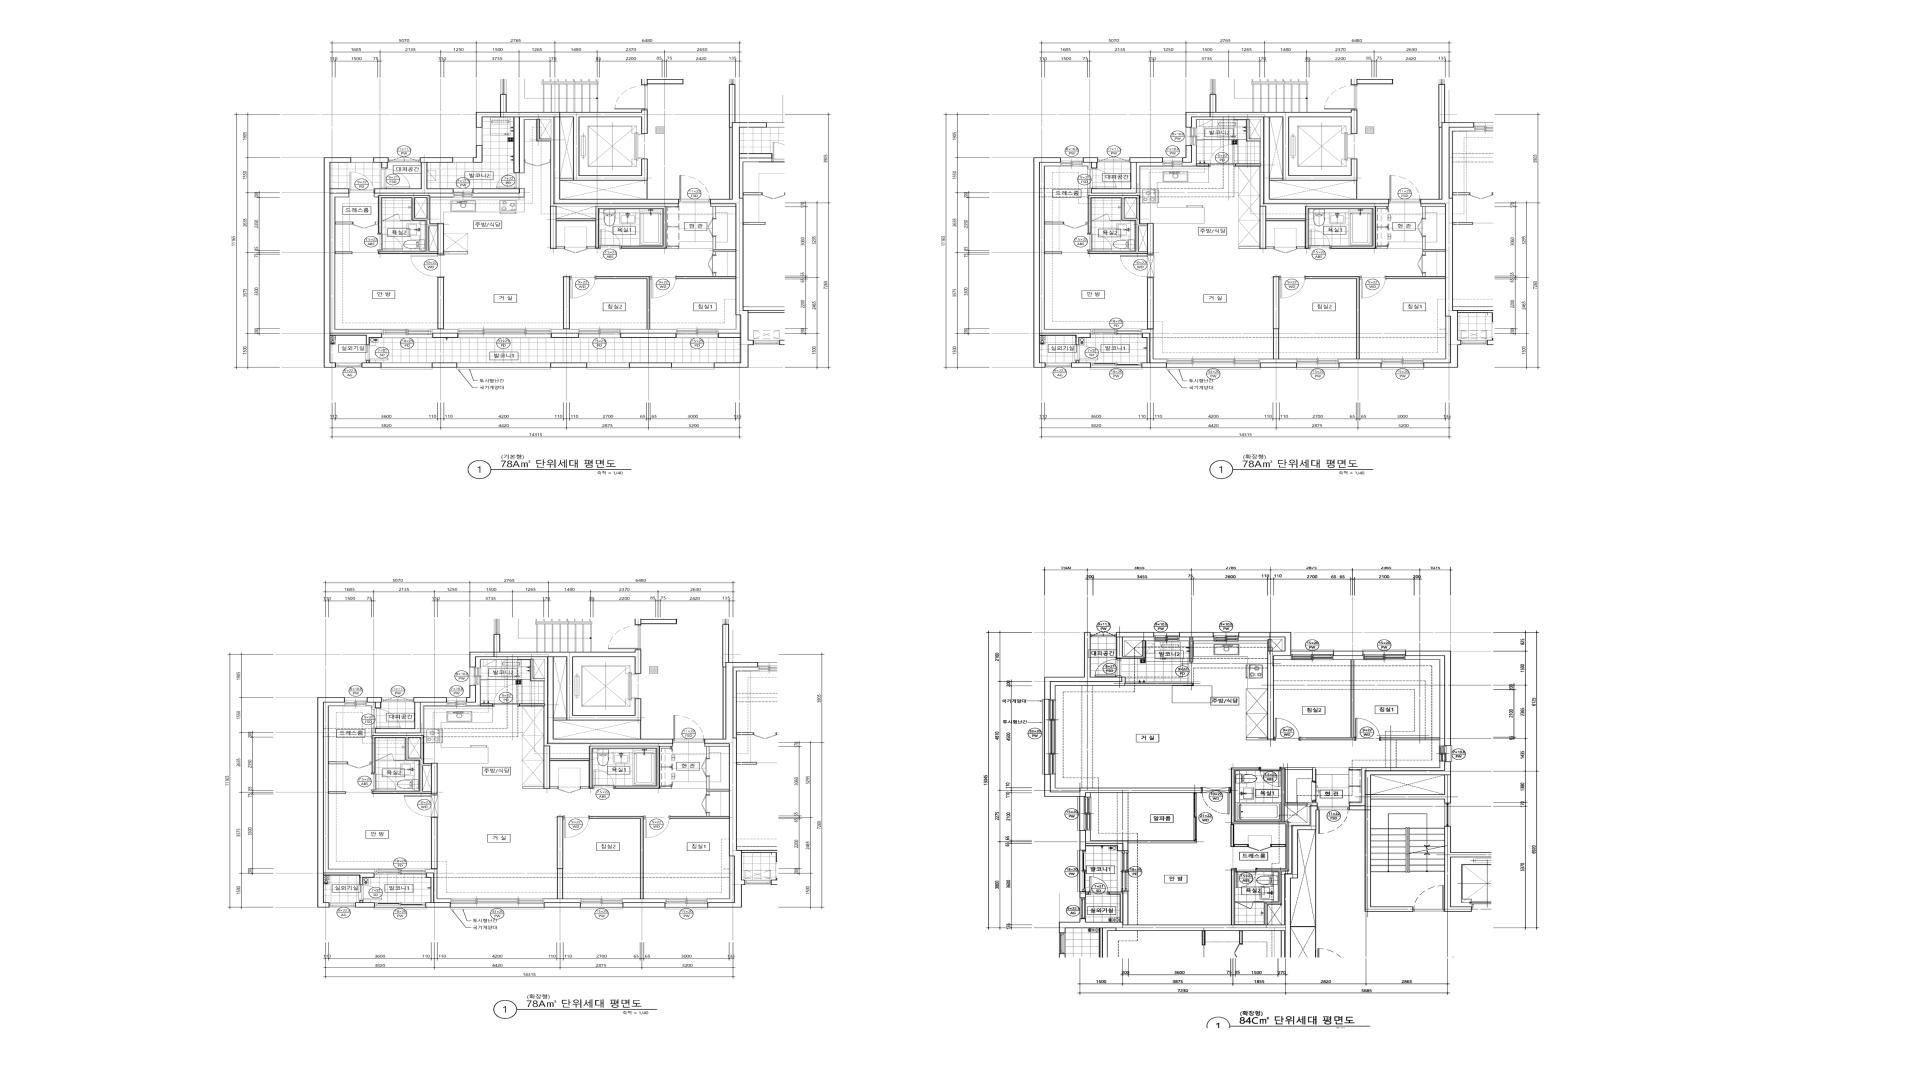door: (1317, 806, 1349, 834), (1389, 175, 1421, 201), (1324, 85, 1357, 110), (608, 625, 641, 650), (615, 85, 648, 110), (1120, 254, 1154, 278), (673, 715, 704, 741), (1413, 886, 1444, 912), (679, 176, 710, 202), (404, 794, 438, 817), (1201, 788, 1231, 814), (411, 254, 444, 277), (371, 708, 400, 729), (1279, 276, 1306, 298), (643, 816, 670, 838), (1088, 168, 1116, 189), (381, 168, 410, 188), (1360, 276, 1386, 298), (1209, 144, 1235, 166), (563, 816, 589, 838), (493, 684, 519, 706), (1355, 718, 1381, 740), (1274, 718, 1300, 740), (650, 276, 676, 298), (570, 276, 596, 298), (349, 172, 375, 193), (1095, 659, 1121, 677), (1308, 230, 1331, 249), (592, 770, 615, 789), (372, 773, 396, 791), (1235, 869, 1257, 888), (1260, 768, 1282, 787), (599, 230, 621, 249), (1088, 234, 1112, 251), (378, 234, 402, 251), (496, 173, 520, 189), (1088, 877, 1109, 895), (1076, 345, 1098, 361), (366, 345, 388, 361), (359, 885, 382, 900), (1193, 793, 1197, 841), (524, 159, 550, 166), (1312, 781, 1320, 803), (1063, 222, 1087, 229), (1274, 246, 1297, 253), (1248, 844, 1271, 851), (564, 246, 587, 253), (353, 222, 376, 229), (1090, 631, 1116, 637), (558, 786, 580, 793), (708, 218, 716, 237), (1418, 219, 1426, 237), (1418, 255, 1426, 273), (701, 758, 709, 776), (701, 795, 709, 813), (708, 255, 716, 273), (347, 762, 370, 768), (1092, 214, 1110, 221), (376, 754, 394, 761), (1235, 902, 1253, 909), (382, 214, 400, 221)
wall: (1059, 805, 1317, 958), (1186, 94, 1389, 204), (470, 634, 673, 744), (1386, 84, 1458, 368), (670, 624, 742, 908), (676, 84, 748, 368), (1192, 117, 1389, 219), (476, 657, 673, 758), (476, 110, 679, 204), (1349, 762, 1451, 912), (520, 117, 679, 206), (1231, 767, 1317, 925), (1033, 157, 1091, 368), (317, 697, 375, 908), (324, 157, 382, 368), (1040, 163, 1091, 333), (324, 702, 374, 873), (330, 193, 382, 333), (1239, 632, 1291, 740), (1044, 632, 1125, 699), (543, 746, 660, 789), (1260, 206, 1376, 249), (550, 206, 666, 249), (589, 816, 643, 899), (1306, 276, 1360, 359), (1300, 660, 1355, 740), (1406, 651, 1451, 746), (1444, 826, 1492, 912), (1088, 195, 1154, 254), (378, 195, 444, 254), (372, 735, 437, 794), (1044, 775, 1201, 797), (596, 276, 650, 329), (374, 157, 453, 193), (1091, 157, 1163, 193), (375, 697, 447, 733), (371, 702, 447, 735), (1088, 163, 1163, 196), (1291, 830, 1316, 927), (1371, 775, 1444, 795), (1424, 316, 1450, 363), (708, 856, 734, 903), (1116, 632, 1154, 659), (1080, 831, 1128, 851), (1142, 333, 1167, 368), (426, 873, 451, 908), (1142, 329, 1167, 363), (426, 869, 451, 903), (1123, 637, 1154, 656), (557, 816, 563, 899), (1273, 276, 1279, 359), (706, 776, 729, 795), (1109, 892, 1123, 922), (1423, 236, 1445, 255), (713, 237, 736, 255), (473, 189, 524, 197), (718, 315, 740, 333), (374, 193, 453, 198), (1231, 824, 1248, 847), (563, 276, 570, 329), (431, 817, 438, 869), (710, 204, 736, 218), (437, 277, 444, 329), (1147, 277, 1154, 329), (1421, 204, 1445, 219), (704, 744, 729, 758), (530, 659, 545, 681), (1246, 119, 1261, 141), (466, 685, 481, 706), (1179, 632, 1214, 641), (537, 119, 551, 141), (1183, 145, 1197, 166), (620, 333, 676, 338), (1334, 651, 1363, 660), (1351, 79, 1393, 85), (635, 619, 677, 625), (641, 79, 683, 85), (408, 738, 420, 758), (1268, 637, 1285, 651), (473, 189, 520, 194), (1231, 869, 1235, 925), (620, 329, 676, 333), (1125, 198, 1136, 218), (1339, 363, 1381, 368), (623, 903, 665, 908), (629, 363, 671, 368), (1128, 840, 1197, 843), (1260, 363, 1296, 368), (544, 903, 580, 908), (466, 685, 476, 703), (551, 363, 587, 368), (1381, 737, 1440, 740), (1339, 359, 1381, 363), (623, 899, 665, 903), (1083, 157, 1098, 168), (367, 697, 382, 708), (373, 157, 388, 168), (1183, 145, 1192, 163), (473, 145, 482, 163), (355, 900, 374, 908), (1260, 359, 1296, 363), (544, 899, 580, 903), (730, 127, 732, 199), (551, 333, 579, 338), (361, 361, 381, 368), (1125, 683, 1193, 685), (1071, 361, 1090, 368), (432, 333, 458, 338), (432, 363, 457, 368), (551, 329, 579, 333), (432, 329, 458, 333), (1235, 164, 1261, 167), (1190, 637, 1193, 662), (1239, 246, 1260, 249), (522, 786, 543, 789), (1246, 737, 1267, 740), (519, 704, 545, 706), (444, 252, 468, 254), (367, 703, 375, 708), (1083, 163, 1091, 168), (1270, 178, 1283, 181), (560, 178, 573, 181), (1356, 181, 1358, 199), (1349, 767, 1361, 770), (1080, 892, 1086, 898), (660, 786, 671, 789), (580, 786, 589, 789), (587, 246, 596, 249), (553, 718, 566, 720), (480, 704, 493, 706), (666, 247, 679, 249), (1196, 164, 1209, 166), (1266, 246, 1274, 249), (1297, 246, 1305, 249), (550, 786, 558, 789), (1376, 247, 1388, 249), (556, 246, 564, 249), (640, 721, 641, 739), (1253, 902, 1265, 903), (1110, 220, 1121, 221), (394, 760, 405, 761), (400, 220, 411, 221), (706, 813, 709, 816), (713, 273, 716, 276), (1423, 273, 1426, 276), (375, 222, 378, 224), (370, 762, 372, 764), (1086, 892, 1088, 894), (1086, 222, 1088, 224)
window: (1042, 699, 1056, 775), (1166, 359, 1261, 369), (450, 899, 544, 909), (458, 329, 551, 338), (457, 363, 551, 369), (1077, 797, 1091, 831), (1381, 359, 1424, 370), (1296, 359, 1339, 370), (1291, 649, 1334, 660), (1363, 649, 1406, 660), (374, 869, 426, 878), (1091, 329, 1142, 338), (382, 329, 432, 338), (665, 899, 708, 909), (580, 899, 623, 909), (1077, 850, 1086, 892), (578, 329, 620, 338), (676, 329, 718, 338), (1090, 363, 1142, 370), (1121, 851, 1129, 892), (374, 903, 426, 909), (381, 363, 432, 369), (587, 363, 629, 370), (671, 363, 714, 369), (1214, 632, 1239, 641), (1154, 632, 1179, 641), (1098, 156, 1130, 163), (382, 696, 413, 703), (1439, 746, 1452, 762), (1061, 157, 1083, 166), (345, 697, 367, 706), (470, 667, 481, 685), (388, 157, 420, 163), (1186, 128, 1197, 145), (447, 697, 466, 706), (1163, 158, 1183, 166), (453, 189, 473, 197), (1445, 803, 1451, 826), (351, 157, 373, 163), (329, 903, 355, 908), (1045, 363, 1071, 368), (335, 363, 361, 368), (1080, 898, 1086, 919), (476, 128, 482, 145), (453, 158, 473, 163)
